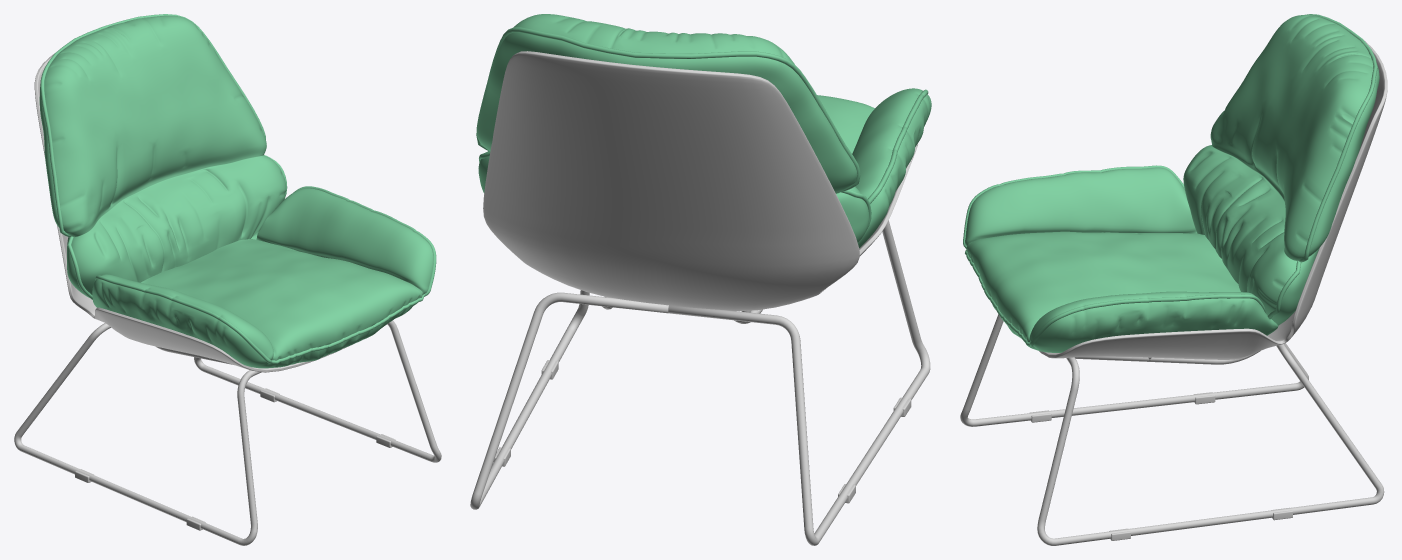
File: cushion_seater.fbx
3 renders of one model, left to right at view 1: azimuth 30°, elevation 25°; view 2: azimuth 150°, elevation 25°; view 3: azimuth 270°, elevation 25°, orthographic. The views are drawn at different scales.
Visible parts, largest first — view 1: Mesh4 Object001_1 Group1 skp80C6_1 Model, Mesh7 Line001_1 Group4 Group3 Group2 skp80C6_1 Model, Mesh1 Shape001_1 Group1 skp80C6_1 Model, Mesh3 Plane009_1 Group1 skp80C6_1 Model; view 2: Mesh3 Plane009_1 Group1 skp80C6_1 Model, Mesh4 Object001_1 Group1 skp80C6_1 Model, Mesh7 Line001_1 Group4 Group3 Group2 skp80C6_1 Model, Mesh1 Shape001_1 Group1 skp80C6_1 Model; view 3: Mesh4 Object001_1 Group1 skp80C6_1 Model, Mesh7 Line001_1 Group4 Group3 Group2 skp80C6_1 Model, Mesh3 Plane009_1 Group1 skp80C6_1 Model, Mesh1 Shape001_1 Group1 skp80C6_1 Model.
Boxes of the visible parts, x1,y1,x2,y2 form: Mesh4 Object001_1 Group1 skp80C6_1 Model: (39, 15, 433, 368); Mesh7 Line001_1 Group4 Group3 Group2 skp80C6_1 Model: (14, 320, 441, 545); Mesh1 Shape001_1 Group1 skp80C6_1 Model: (40, 14, 436, 363); Mesh3 Plane009_1 Group1 skp80C6_1 Model: (34, 54, 387, 372); Mesh3 Plane009_1 Group1 skp80C6_1 Model: (483, 51, 917, 310); Mesh4 Object001_1 Group1 skp80C6_1 Model: (476, 14, 931, 247); Mesh7 Line001_1 Group4 Group3 Group2 skp80C6_1 Model: (470, 220, 930, 545); Mesh1 Shape001_1 Group1 skp80C6_1 Model: (476, 27, 928, 229); Mesh4 Object001_1 Group1 skp80C6_1 Model: (965, 15, 1379, 352); Mesh7 Line001_1 Group4 Group3 Group2 skp80C6_1 Model: (960, 314, 1384, 545); Mesh3 Plane009_1 Group1 skp80C6_1 Model: (1039, 40, 1387, 359); Mesh1 Shape001_1 Group1 skp80C6_1 Model: (963, 14, 1377, 346).
Size of the model in its own units: 259 by 304 by 293.
